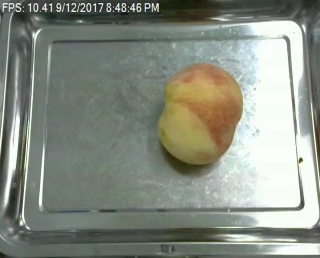Peach: (157, 61, 243, 163)
